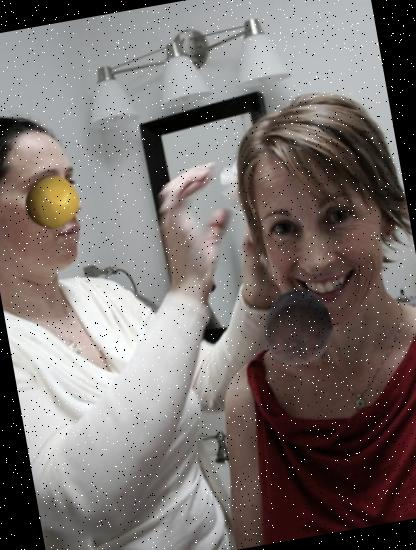Grapefruit: (20, 170, 84, 234)
Nut: (252, 282, 342, 372)
